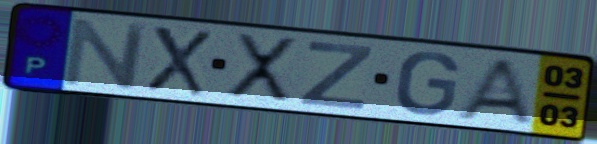A: (451, 57, 539, 128)
G: (392, 50, 462, 118)
N: (60, 16, 152, 91)
X: (222, 30, 300, 107), (143, 23, 214, 99)
Z: (295, 39, 376, 112)
